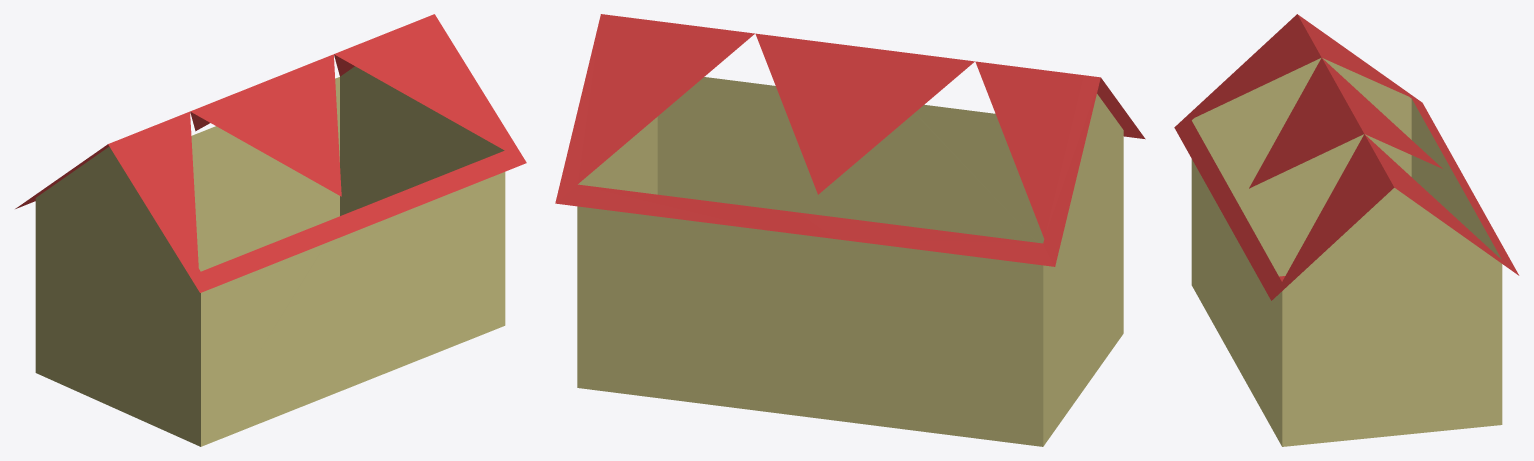
3 views of the same model, side by side, from view 1: azimuth 30°, elevation 25°; view 2: azimuth 150°, elevation 25°; view 3: azimuth 270°, elevation 25° (orthographic). The views are drawn at different scales.
Size of the model in its own units: 24.38 by 17.94 by 14.58.
